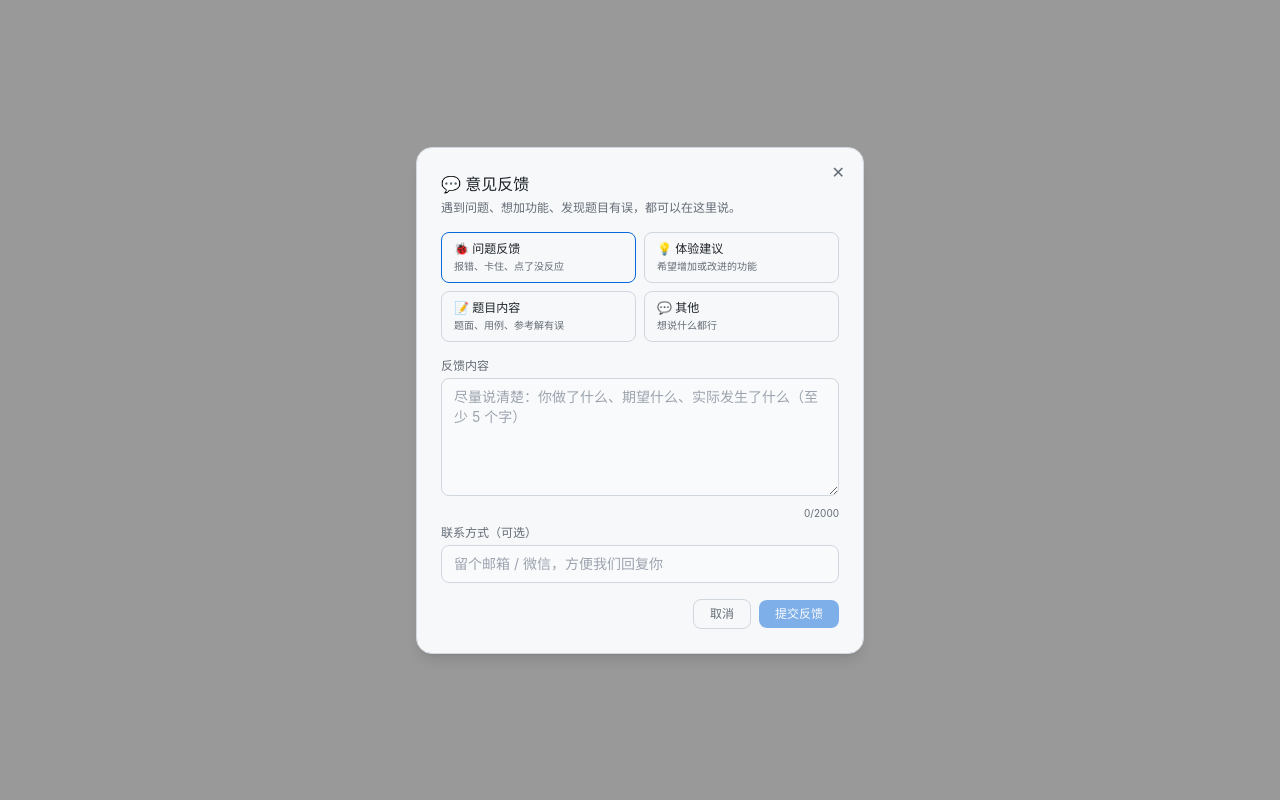
it: FeedbackModal › 提交成功：请求体带分类 / 正文 / screen，并展示成功态
The width and height of the screenshot is (1280, 800).
Click the text "📝 题目内容". click: [487, 307]
box: [454, 300, 520, 314]
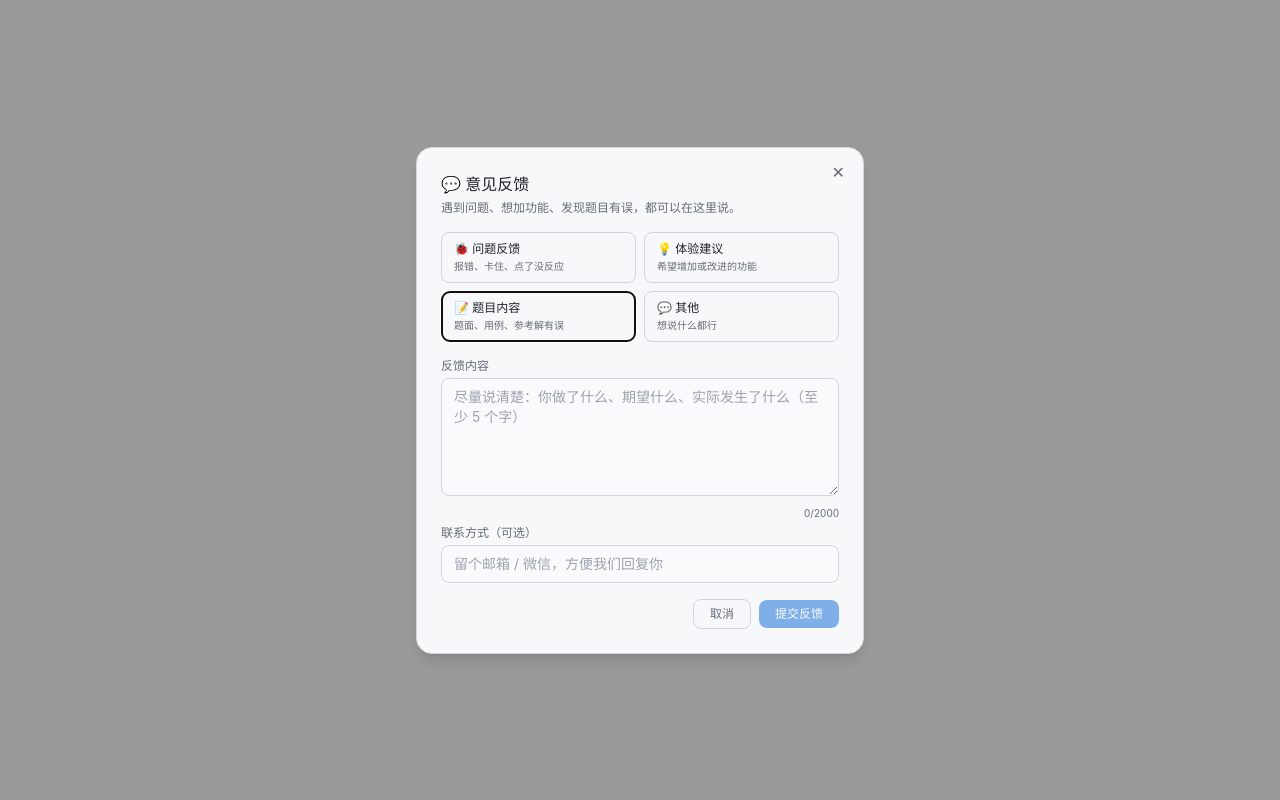
Type "这道题的描述有个错别字" into the text box labelled "反馈内容". click: [640, 436]
box: [441, 378, 839, 496]
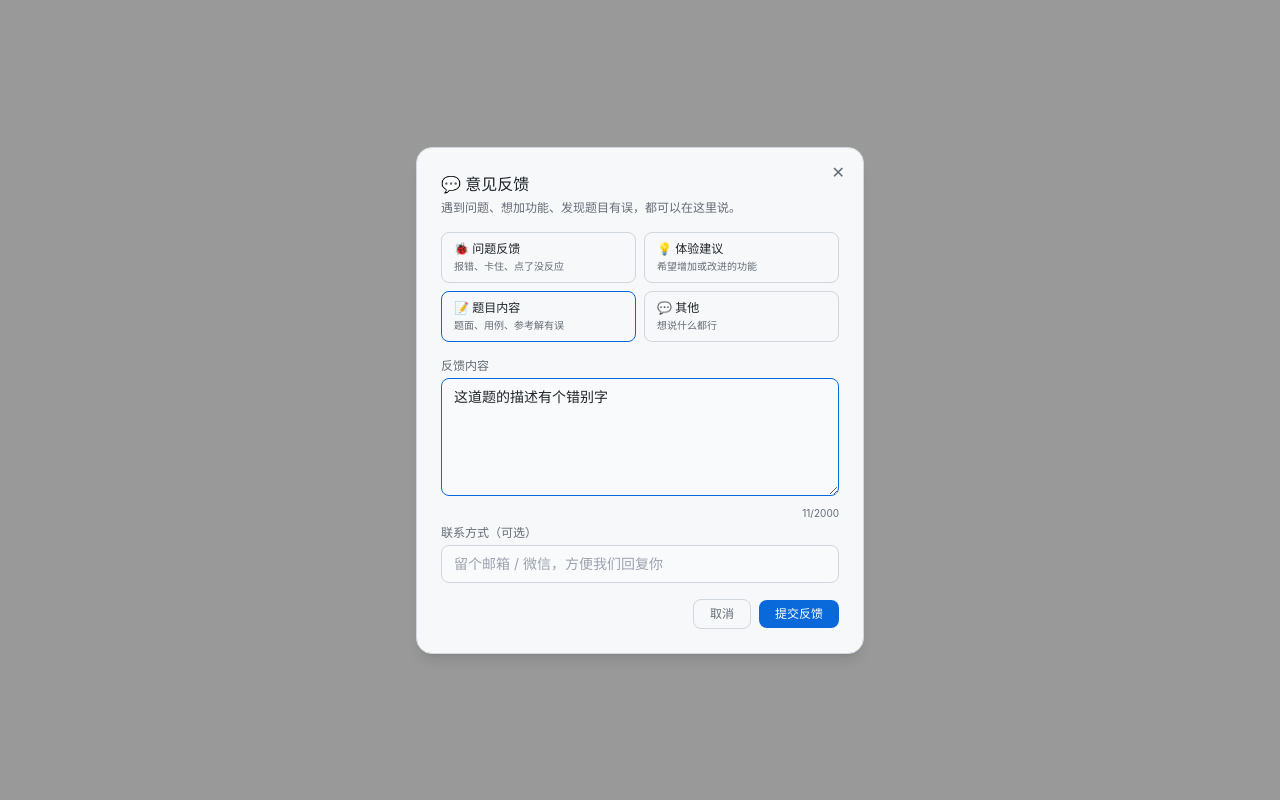
Click the button with test id "feedback-submit". click: [799, 614]
box: [759, 600, 839, 628]
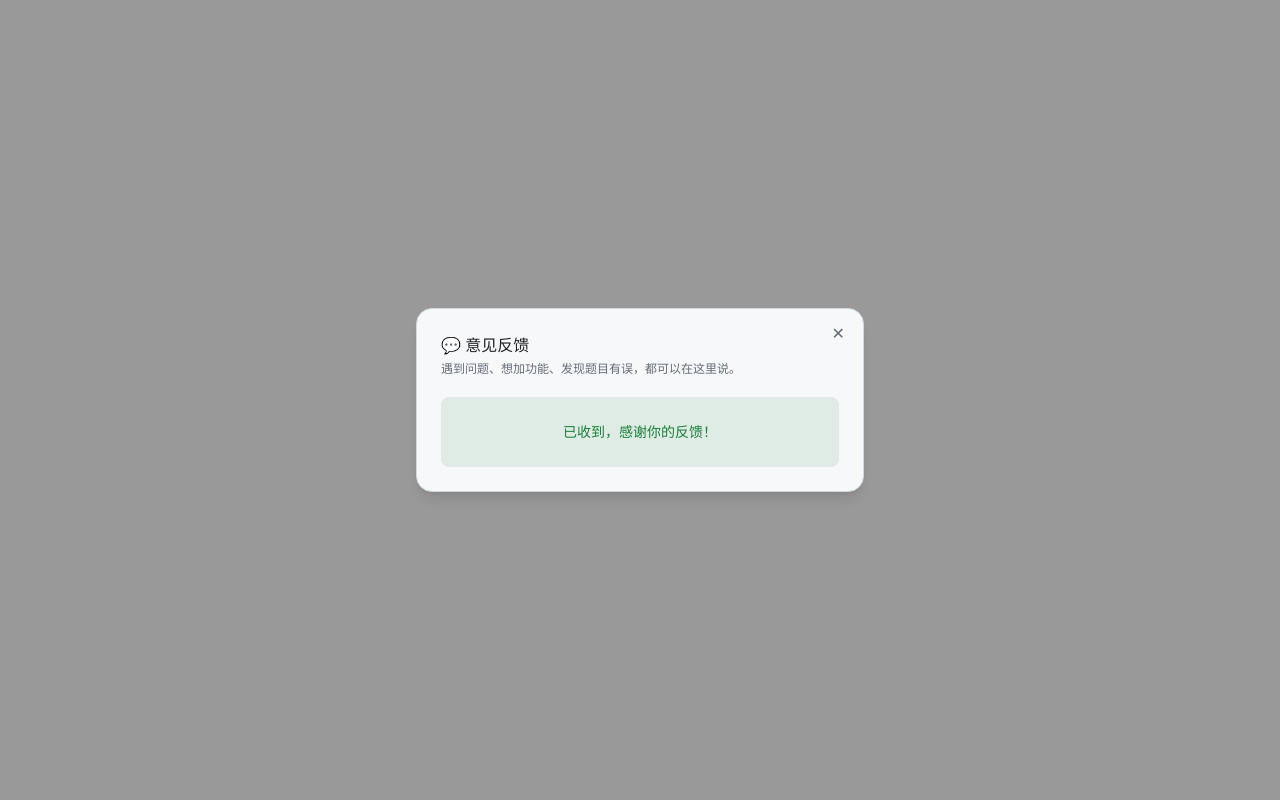
Now the text "已收到，感谢你的反馈！" is shown, box [563, 423, 717, 440]
